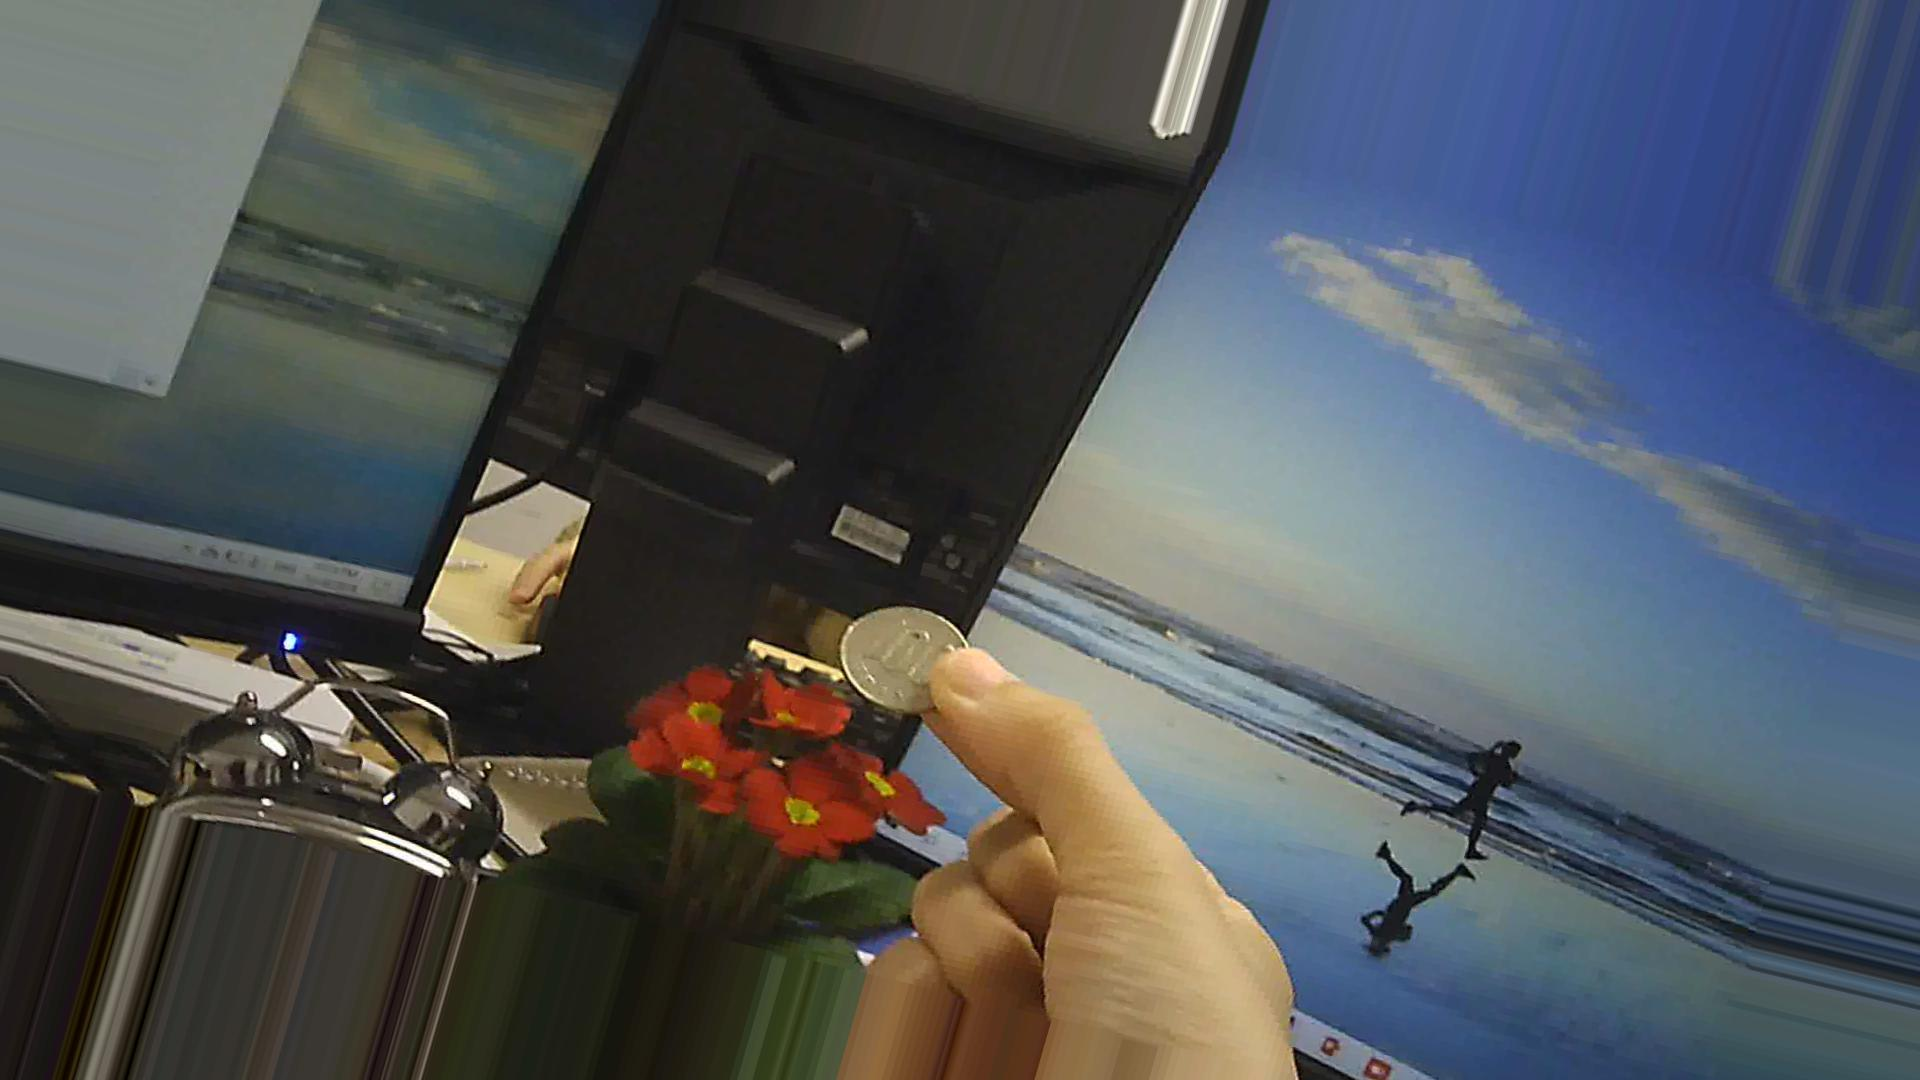100 Yen: (837, 597, 997, 712)
